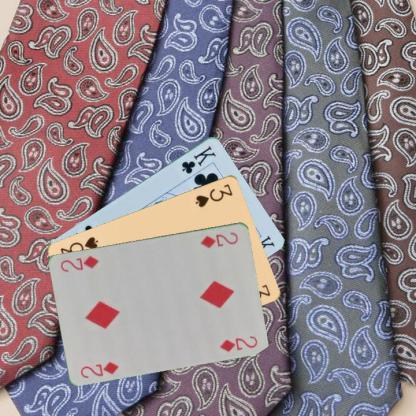2d: (78, 358, 120, 379), (198, 229, 240, 249)
3s: (192, 181, 234, 208)
Kc: (178, 143, 218, 175)
